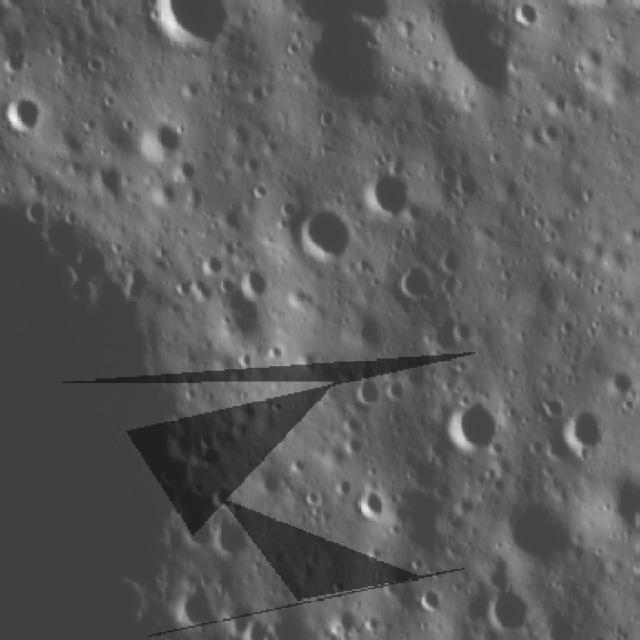crater: (288, 11, 403, 127), (412, 0, 522, 106), (492, 482, 586, 572), (207, 276, 282, 356), (144, 0, 243, 58), (292, 195, 365, 267), (440, 387, 509, 461), (170, 578, 230, 636), (363, 162, 415, 228), (477, 580, 535, 635), (207, 509, 267, 560), (560, 408, 614, 464), (418, 310, 476, 361), (128, 110, 188, 159), (1, 92, 50, 145), (86, 155, 132, 207), (341, 298, 385, 352), (153, 447, 195, 499), (352, 480, 394, 528), (390, 256, 436, 298), (351, 372, 395, 412), (398, 348, 437, 392), (289, 339, 329, 381), (118, 253, 153, 301), (237, 263, 275, 302), (530, 384, 568, 422), (2, 42, 36, 82), (338, 407, 374, 444), (18, 192, 53, 230), (451, 169, 487, 205), (324, 601, 361, 636), (416, 582, 450, 620), (153, 176, 187, 212), (537, 114, 571, 148), (435, 243, 468, 277), (208, 475, 240, 508), (544, 86, 571, 122), (198, 245, 227, 277), (341, 434, 372, 460), (170, 272, 195, 302), (28, 166, 54, 194), (177, 157, 203, 185), (302, 485, 330, 509), (80, 113, 102, 141), (436, 160, 458, 185)
